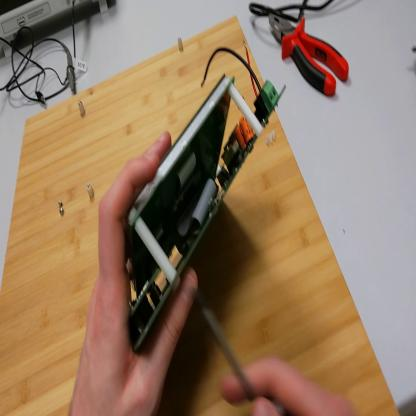hand: (72, 131, 201, 415), (223, 358, 357, 415)
low voltage board: (130, 38, 285, 350)
oscilloscope: (2, 1, 112, 59)
oscilloscope probe tip: (61, 43, 79, 94)
pliers: (269, 11, 351, 99)
screwdriver-: (197, 297, 257, 402)
working area: (1, 16, 400, 414)
